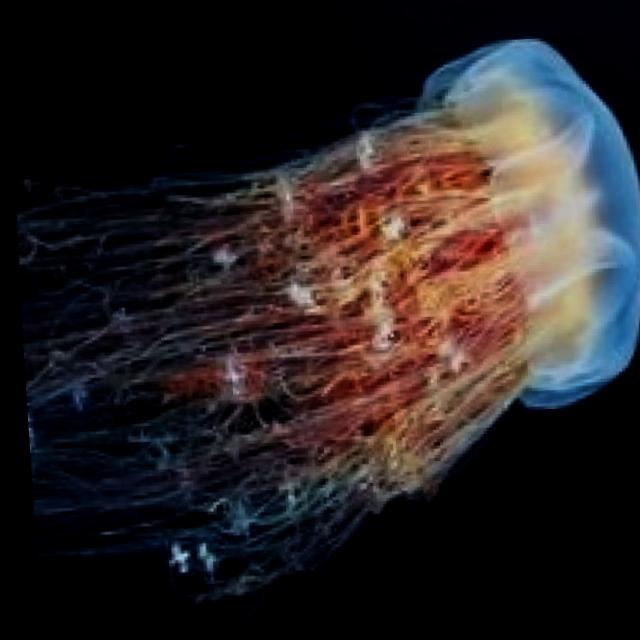Box-jellyfish: (4, 48, 640, 640)
